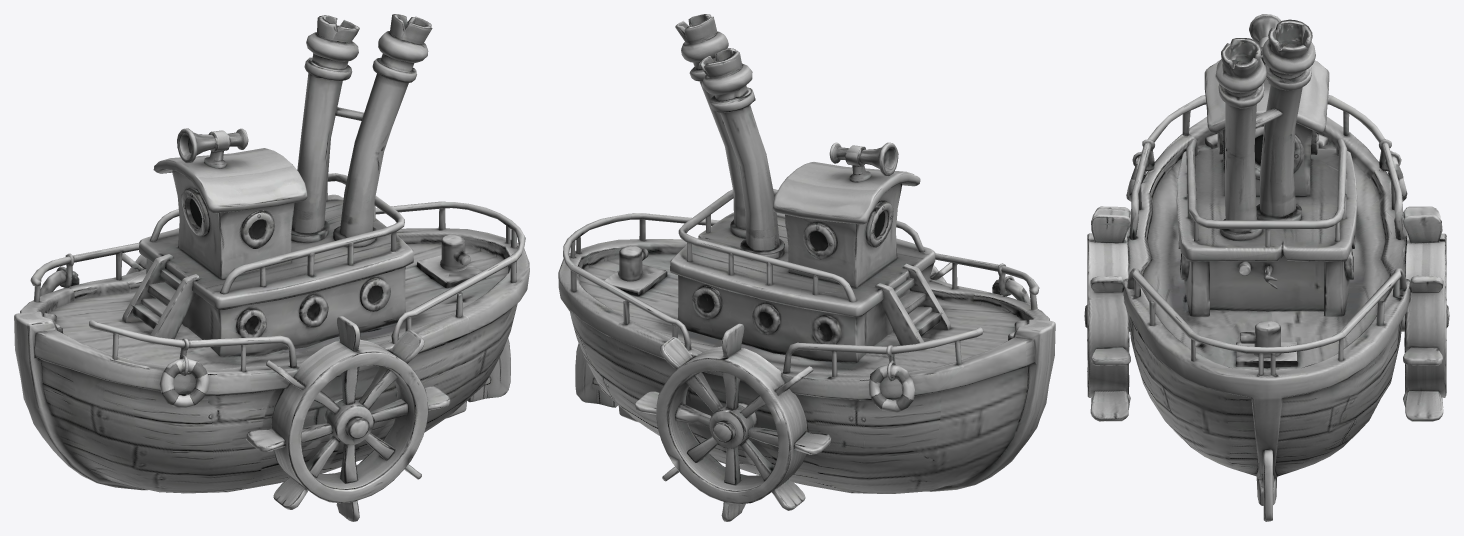
File: steamboat.glb
3 renders of one model, left to right at view 1: azimuth 30°, elevation 25°; view 2: azimuth 150°, elevation 25°; view 3: azimuth 270°, elevation 25°, orthographic. The views are drawn at different scales.
Size of the model in its own units: 0.9575 by 0.7691 by 0.5865.
Materials: 1 (1 with a texture image).
